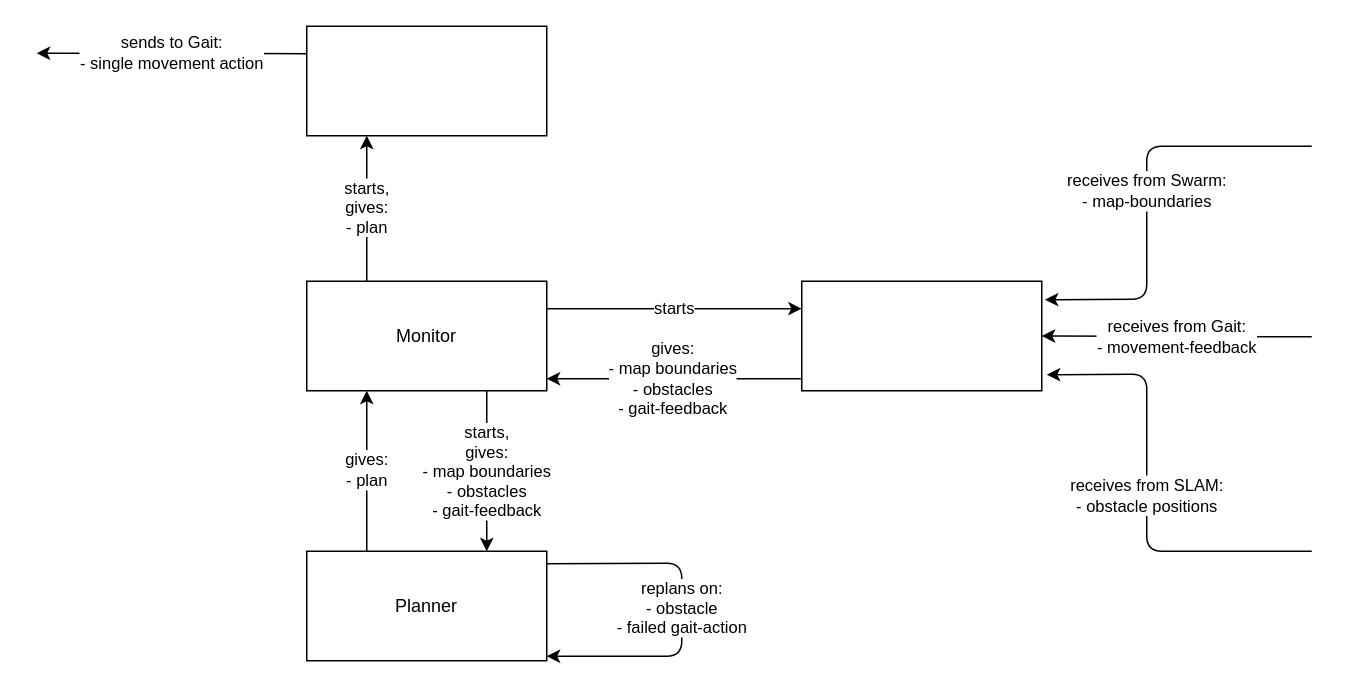
Image size: 1350x696. Some labels were removed from this diagram. The box of each missing label's shape, as (x1, y1, x2, y2) in pixels:
Receiver: (800, 280, 1042, 391)
Supplier: (305, 25, 547, 136)
